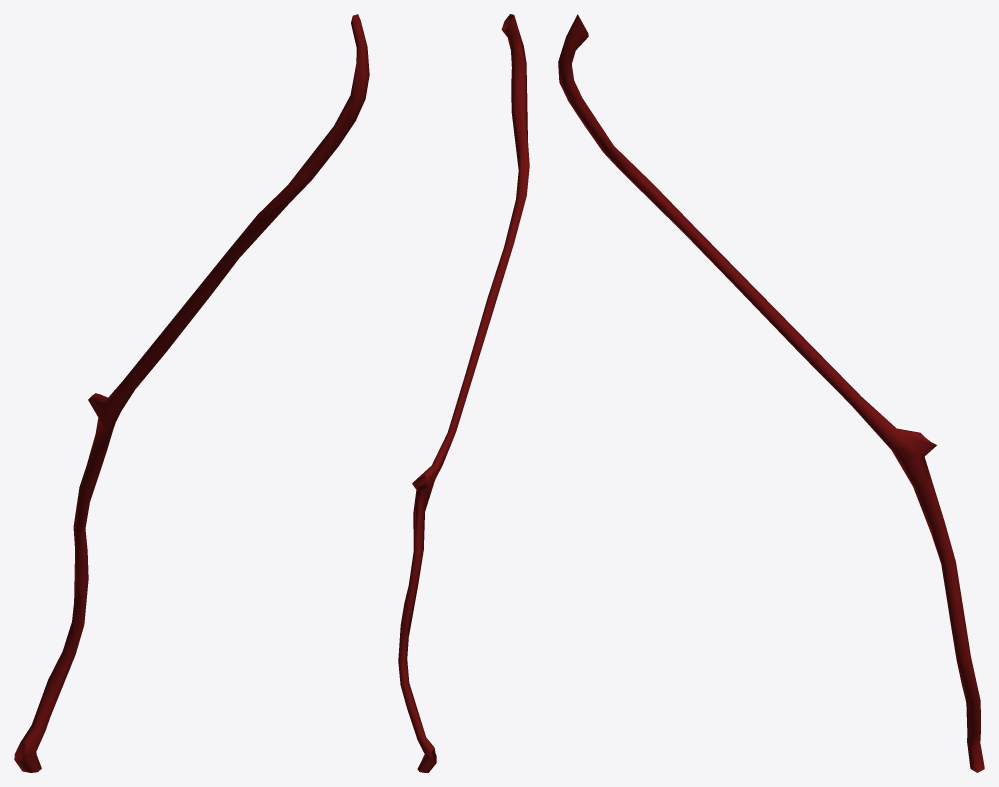
Rendered from R ramus palmaris arteria medianae.fbx.
3 renders of one model, left to right at view 1: azimuth 30°, elevation 25°; view 2: azimuth 150°, elevation 25°; view 3: azimuth 270°, elevation 25°, orthographic. The views are drawn at different scales.
Visible parts, largest first — view 1: R ramus palmaris arteria medianae, R ramus palmaris arteria medianae low; view 2: R ramus palmaris arteria medianae, R ramus palmaris arteria medianae low; view 3: R ramus palmaris arteria medianae, R ramus palmaris arteria medianae low.
Part boxes in pixels (x1=…): R ramus palmaris arteria medianae: x1=14, y1=14, x2=369, y2=772; R ramus palmaris arteria medianae low: x1=15, y1=16, x2=367, y2=760; R ramus palmaris arteria medianae: x1=398, y1=14, x2=529, y2=772; R ramus palmaris arteria medianae low: x1=399, y1=14, x2=529, y2=771; R ramus palmaris arteria medianae: x1=558, y1=14, x2=984, y2=772; R ramus palmaris arteria medianae low: x1=559, y1=15, x2=983, y2=772.
Size of the model in its own units: 2.78 by 18.96 by 9.21.
